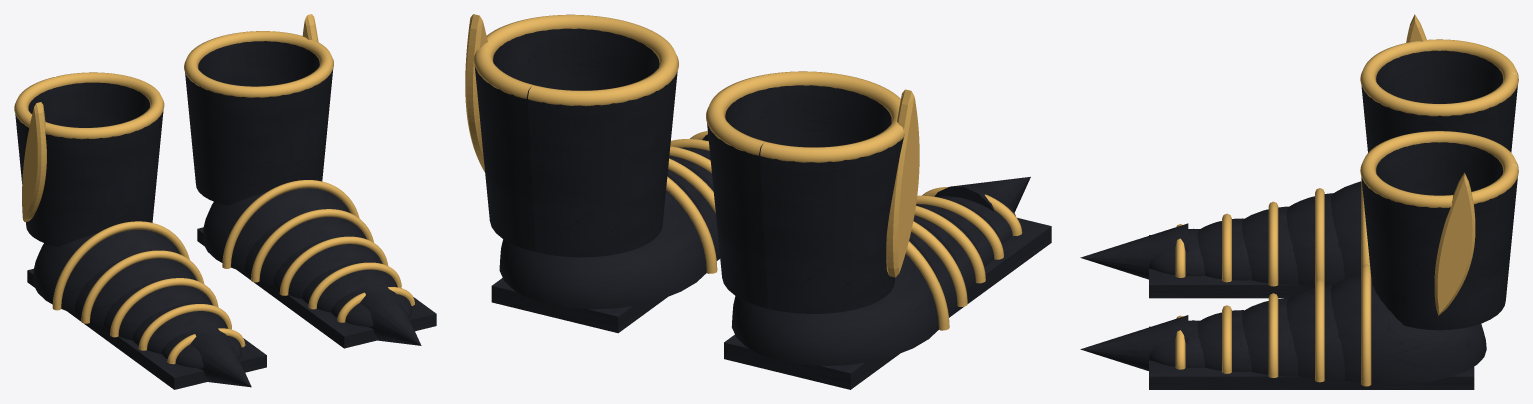
The model's file is boots.glb.
The picture shows the model from 3 angles, left to right: view 1: azimuth 30°, elevation 25°; view 2: azimuth 150°, elevation 25°; view 3: azimuth 270°, elevation 25°; orthographic projection. The views are drawn at different scales.
Parts seen in each view (by area): view 1: sabatons, goldTrim; view 2: sabatons, goldTrim; view 3: sabatons, goldTrim.
Boxes of the visible parts, box(x1,y1,x2,y2) form: sabatons: box(15, 41, 436, 389); goldTrim: box(14, 14, 414, 364); sabatons: box(474, 28, 1051, 389); goldTrim: box(465, 14, 1022, 330); sabatons: box(1080, 50, 1517, 389); goldTrim: box(1175, 14, 1518, 386).
Size of the model in its own units: 0.8 by 0.5385 by 0.891.
Materials: 2 (1 with a texture image).
